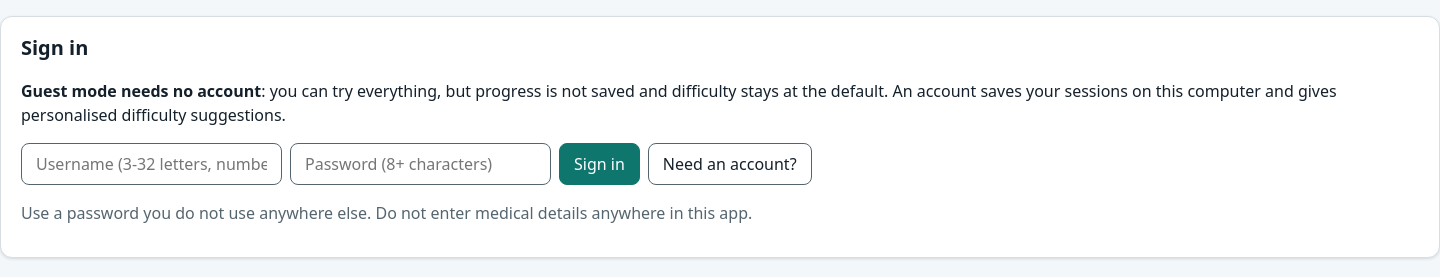
Test case: AccountPanel › switches to account creation
This screenshot has width=1440, height=277.
What coordinates should you click on to do the following:
click the button "Need an account?"
I would click on:
 (730, 164)
Its box is [648,143,812,185].
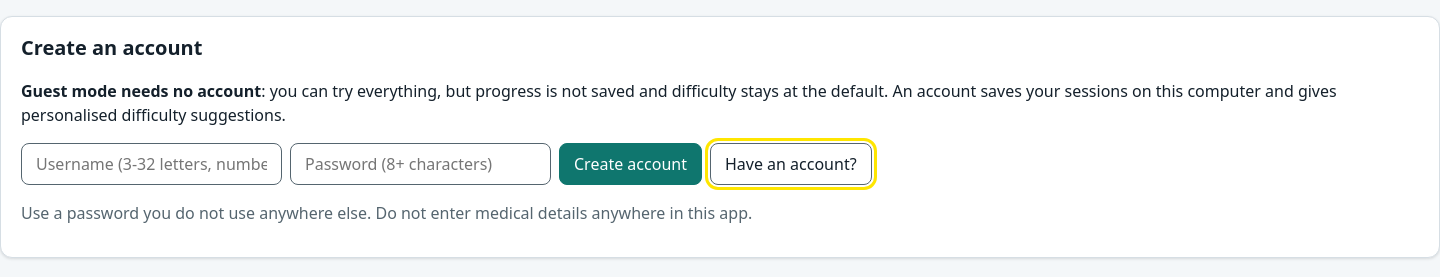
Now the button "Create account" is shown, box [559,143,702,185]
